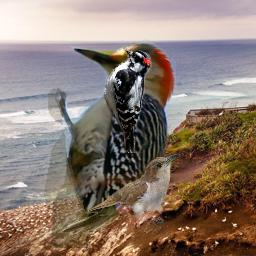Cuckoo: (60, 153, 181, 234)
Woodpecker: (44, 32, 203, 248), (103, 47, 153, 153)
